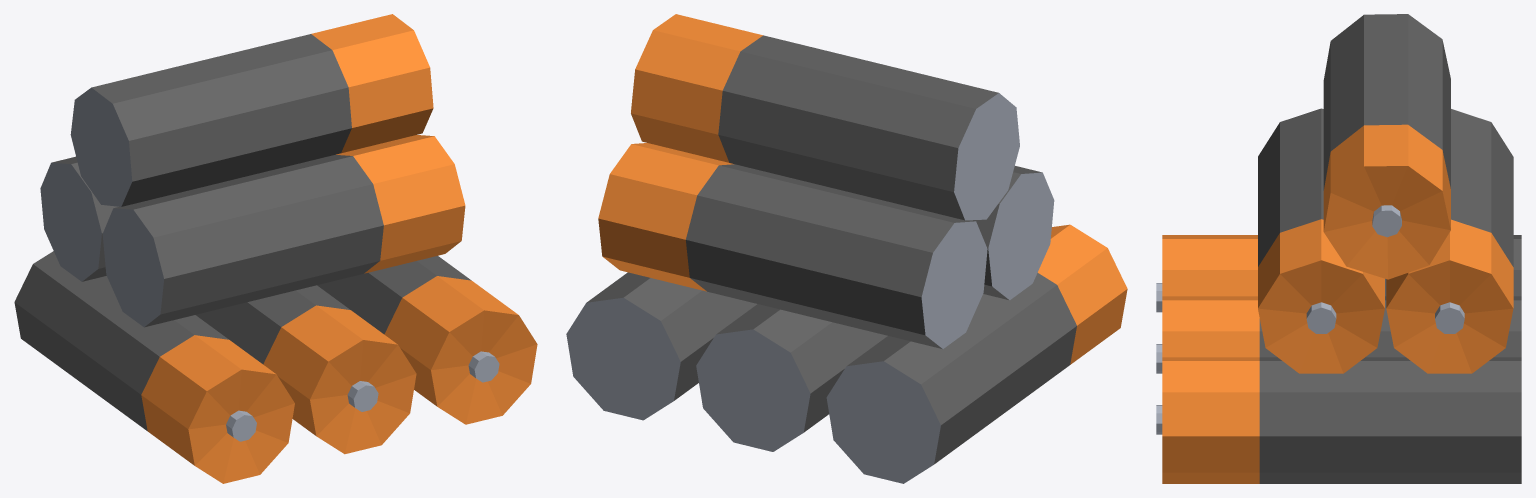
File: PileOfBattries.fbx
The picture shows the model from 3 angles, left to right: view 1: azimuth 30°, elevation 25°; view 2: azimuth 150°, elevation 25°; view 3: azimuth 270°, elevation 25°; orthographic projection. The views are drawn at different scales.
Parts seen in each view (by area): view 1: PileOfBattries; view 2: PileOfBattries; view 3: PileOfBattries.
Part boxes in pixels (<box>): PileOfBattries: <box>14,14,537,483</box>; PileOfBattries: <box>566,14,1127,483</box>; PileOfBattries: <box>1156,14,1521,483</box>.
Bounding box in the file's own units: 193 × 165 × 170.
